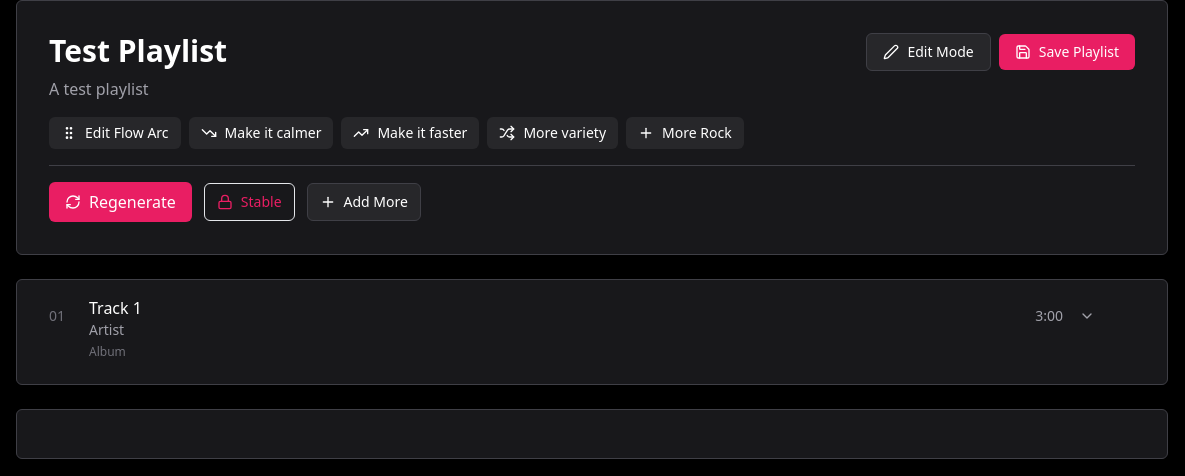
PlaylistDisplay save behavior › shows Edit Mode and Save Playlist when playlist has tracks
Click the button "Edit Mode".
click(929, 52)  # box x1=866 y1=33 x2=991 y2=71
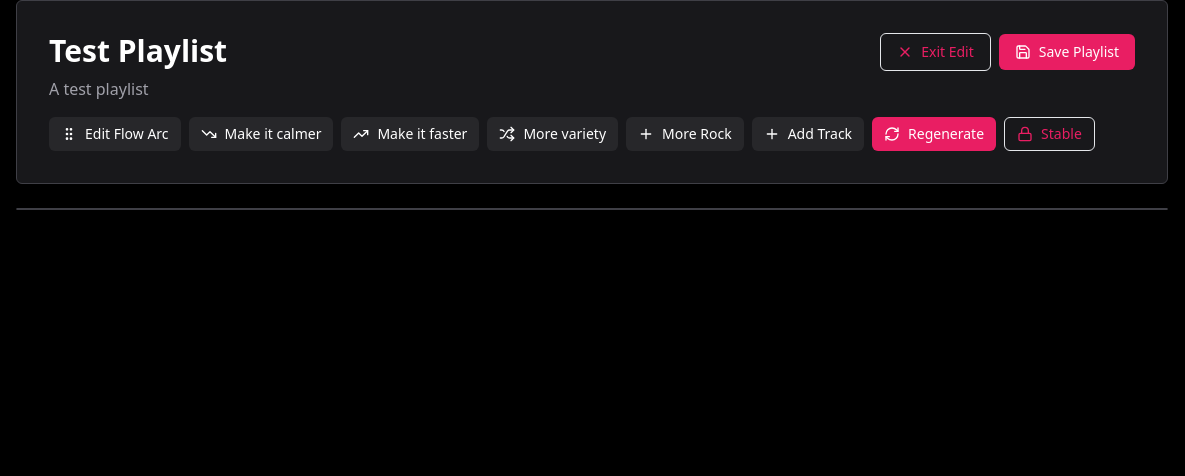
Result: the button "Exit Edit" is shown at x1=880 y1=33 x2=991 y2=71
